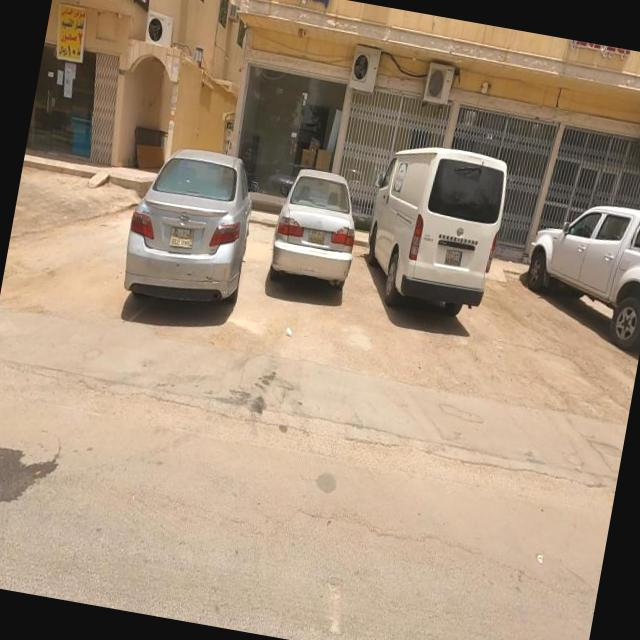debris: (250, 284, 322, 384)
